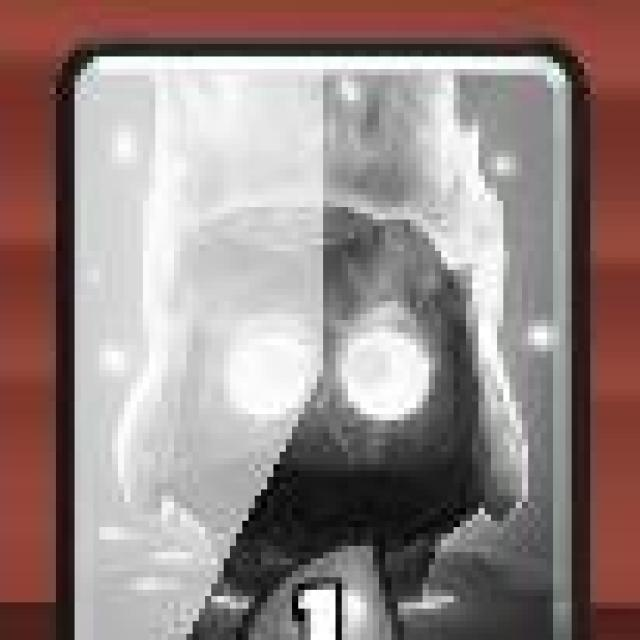Fire_Spirit: (66, 51, 575, 640)
